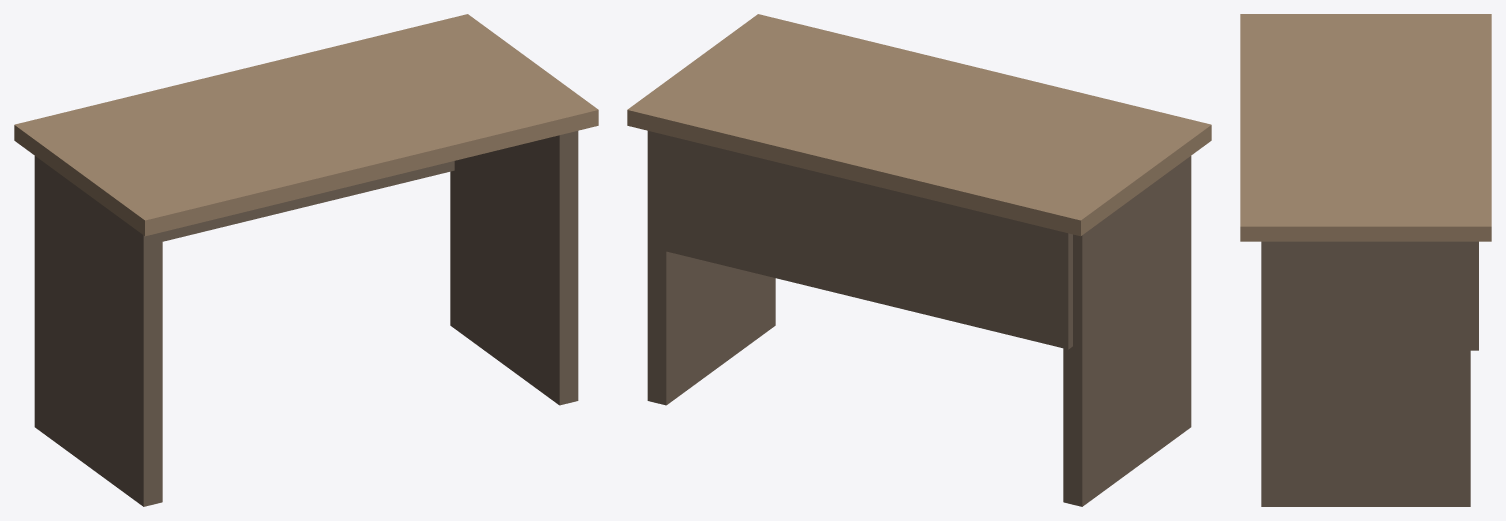
File: item_desk.glb
3 views of the same model, side by side, from view 1: azimuth 30°, elevation 25°; view 2: azimuth 150°, elevation 25°; view 3: azimuth 270°, elevation 25° (orthographic). The views are drawn at different scales.
Parts seen in each view (by area): view 1: item_desk; view 2: item_desk; view 3: item_desk.
Part boxes in pixels (x1,y1,x2,y2): item_desk: (14, 14, 598, 506); item_desk: (627, 14, 1211, 506); item_desk: (1240, 14, 1491, 506).
Size of the model in its own units: 1.2 by 0.75 by 0.6.
